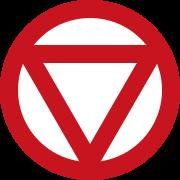Stop: (9, 10, 170, 175)
